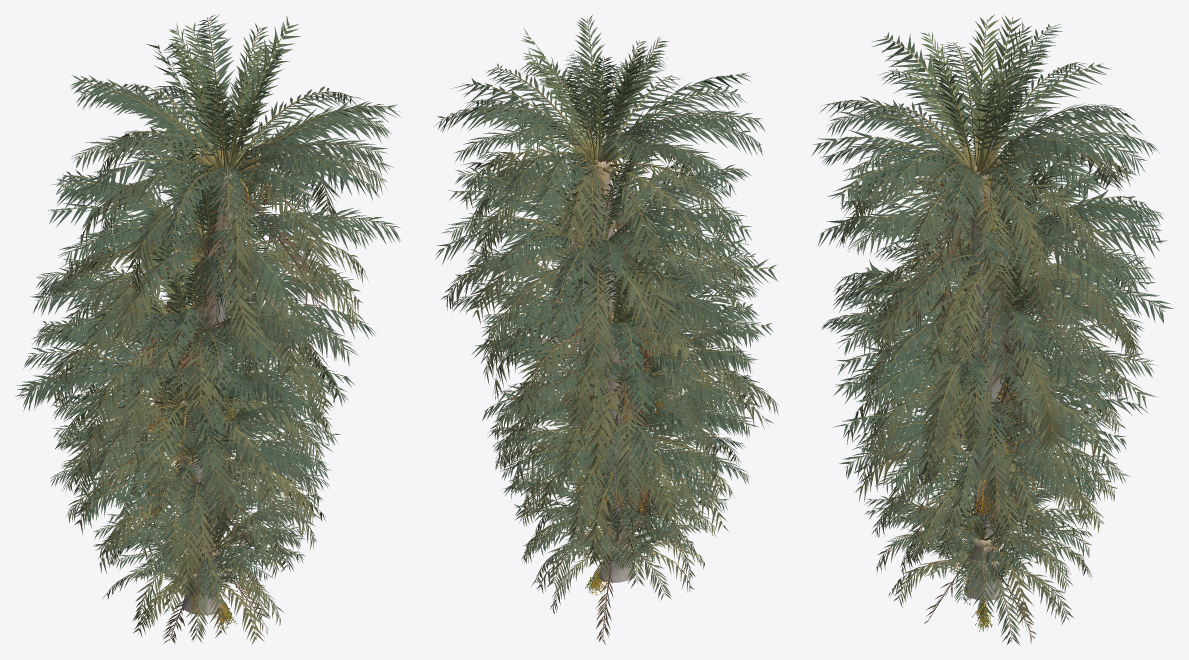
File: plants.glb
3 renders of one model, left to right at view 1: azimuth 30°, elevation 25°; view 2: azimuth 150°, elevation 25°; view 3: azimuth 270°, elevation 25°, orthographic. The views are drawn at different scales.
Parts seen in each view (by area): view 1: palm_e-crown-1, palm_d-crown-1, palm_c-crown-1, palm_b-crown-1, palm_e-crown-2, palm_a-crown-1, palm_g-crown-1, palm_d-crown-2, palm_c-crown-2, palm_b-crown-2, young_b-crown-1, palm_a-crown-2 (+6 smaller); view 2: palm_e-crown-1, palm_d-crown-1, palm_c-crown-1, palm_b-crown-1, palm_e-crown-2, palm_d-crown-2, palm_a-crown-1, palm_g-crown-1, palm_c-crown-2, palm_b-crown-2, young_a-crown-1, young_b-crown-1 (+7 smaller); view 3: palm_e-crown-1, palm_d-crown-1, palm_c-crown-1, palm_e-crown-2, palm_b-crown-1, palm_g-crown-1, palm_d-crown-2, palm_a-crown-1, palm_c-crown-2, palm_b-crown-2, young_b-crown-1, young_a-crown-1 (+7 smaller).
Part boxes in pixels (x1,y1,x2,y2): palm_e-crown-1: (70,14,391,330); palm_d-crown-1: (49,98,400,412); palm_c-crown-1: (30,184,358,483); palm_b-crown-1: (15,254,347,547); palm_e-crown-2: (71,16,399,307); palm_a-crown-1: (51,325,340,595); palm_g-crown-1: (50,389,330,598); palm_d-crown-2: (48,99,362,400); palm_c-crown-2: (40,208,375,469); palm_b-crown-2: (17,290,354,526); young_b-crown-1: (93,466,323,634); palm_a-crown-2: (51,335,333,599); palm_e-crown-1: (435,15,765,304); palm_d-crown-1: (441,105,751,411); palm_c-crown-1: (449,189,761,459); palm_b-crown-1: (483,260,778,528); palm_e-crown-2: (453,28,751,284); palm_d-crown-2: (435,112,752,363); palm_a-crown-1: (482,301,758,567); palm_g-crown-1: (488,359,749,542); palm_c-crown-2: (449,195,777,438); palm_b-crown-2: (471,253,774,532); young_a-crown-1: (520,463,708,644); young_b-crown-1: (502,432,728,591); palm_e-crown-1: (819,14,1159,332); palm_d-crown-1: (833,101,1164,429); palm_c-crown-1: (833,175,1173,466); palm_e-crown-2: (812,15,1142,337); palm_b-crown-1: (821,231,1155,526); palm_g-crown-1: (839,360,1129,564); palm_d-crown-2: (817,126,1167,410); palm_a-crown-1: (852,329,1125,559); palm_c-crown-2: (833,187,1155,457); palm_b-crown-2: (836,238,1157,531); young_b-crown-1: (864,449,1092,623); young_a-crown-1: (886,472,1092,645).
Size of the model in its own units: 7.56 by 12.91 by 6.89.
